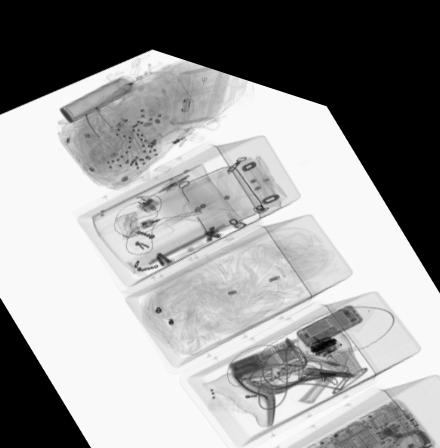Powerbank: (225, 319, 301, 370)
